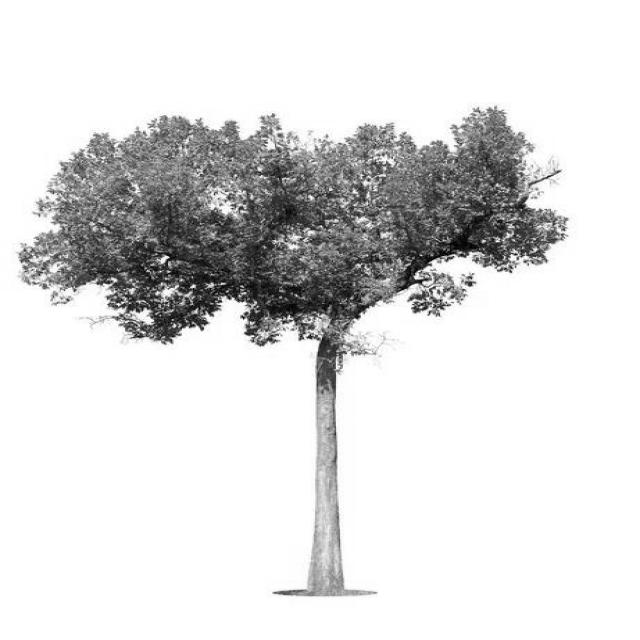Tree: (19, 108, 566, 597)
